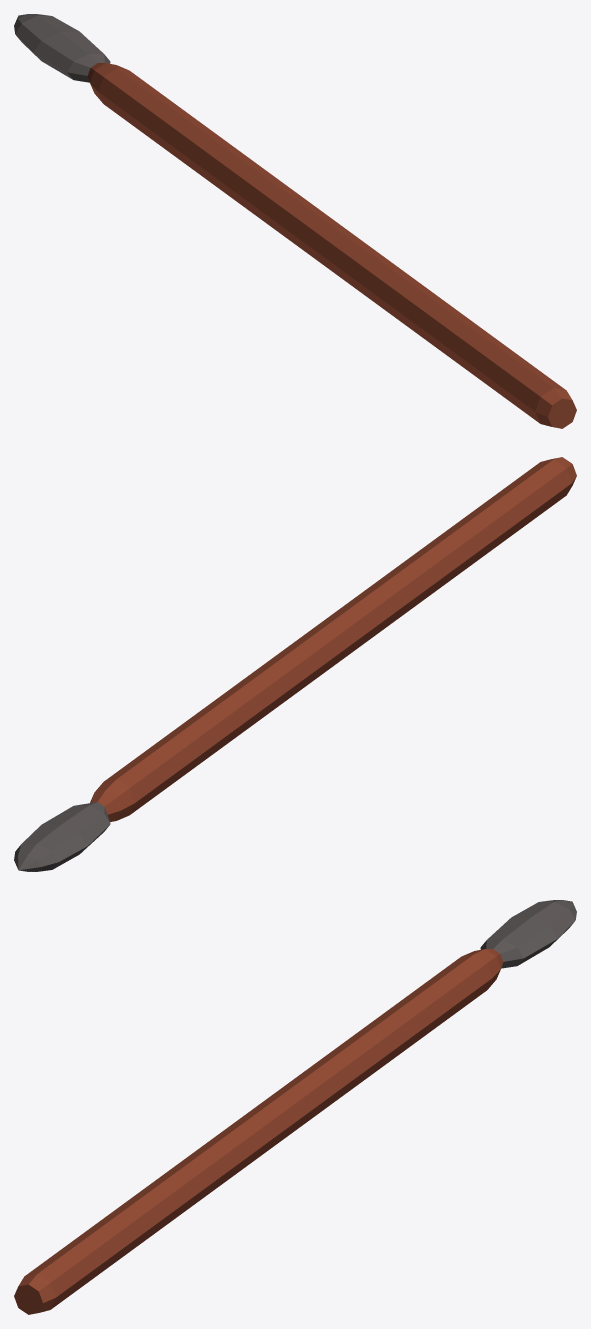
The model's file is spear.fbx.
3 views of the same model, one above another, from view 1: azimuth 30°, elevation 25°; view 2: azimuth 150°, elevation 25°; view 3: azimuth 330°, elevation 25° (orthographic).
Parts seen in each view (by area): view 1: spear; view 2: spear; view 3: spear.
Boxes of the visible parts, x1=… form: spear: x1=14, y1=14, x2=576, y2=428; spear: x1=14, y1=457, x2=576, y2=871; spear: x1=14, y1=900, x2=576, y2=1314.
Size of the model in its own units: 11.02 by 7.5 by 192.
